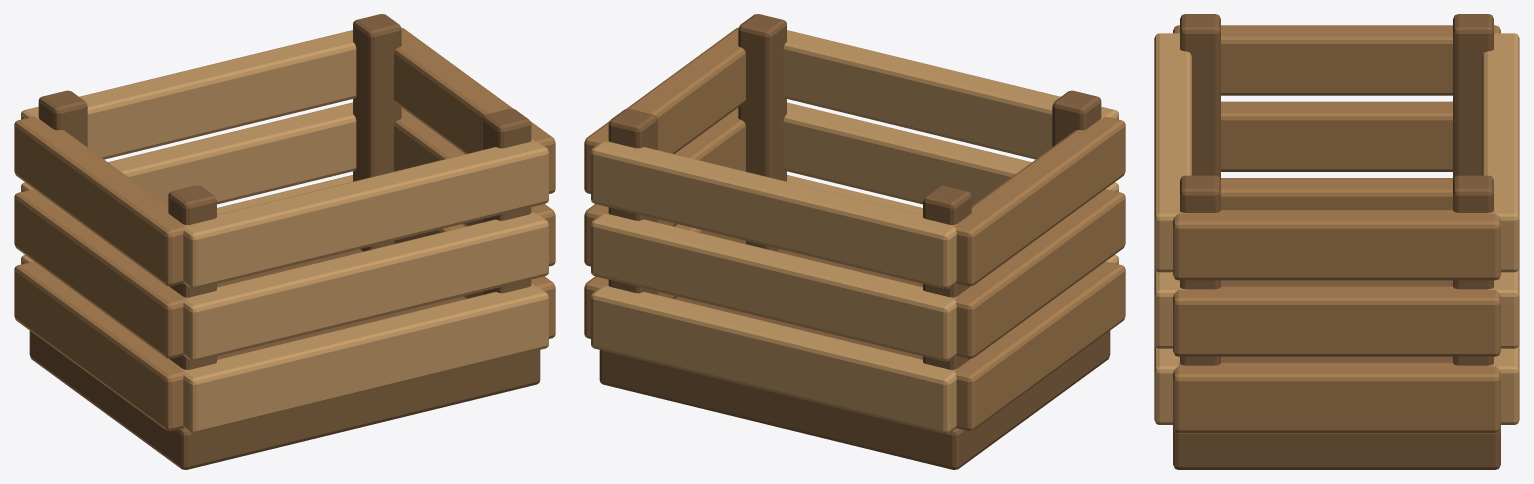
Rendered from SM_PlayerHouse_Storage_OpenSupplyCrate.fbx.
3 renders of one model, left to right at view 1: azimuth 30°, elevation 25°; view 2: azimuth 150°, elevation 25°; view 3: azimuth 270°, elevation 25°, orthographic. The views are drawn at different scales.
Visible parts, largest first — view 1: SM_PlayerHouse_Storage_OpenSupplyCrate; view 2: SM_PlayerHouse_Storage_OpenSupplyCrate; view 3: SM_PlayerHouse_Storage_OpenSupplyCrate.
Boxes of the visible parts, left/top/right/bottom form: SM_PlayerHouse_Storage_OpenSupplyCrate: left=14, top=14, right=555, bottom=469; SM_PlayerHouse_Storage_OpenSupplyCrate: left=584, top=14, right=1125, bottom=469; SM_PlayerHouse_Storage_OpenSupplyCrate: left=1154, top=14, right=1519, bottom=469.
Size of what is drawn, in the model's own units: 69.5 by 53.5 by 45.
